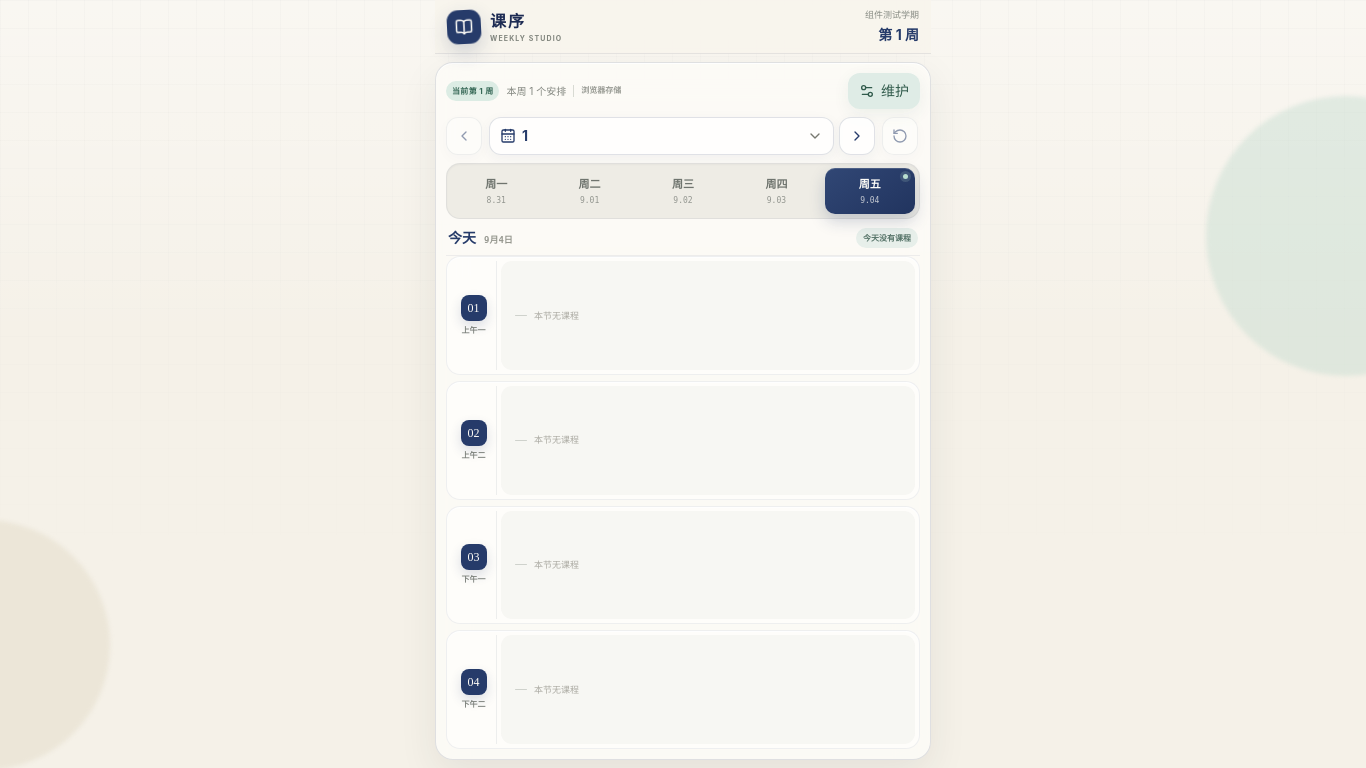
Test: course schedule page › 优先加载版本 1 本地数据，且管理页不提供恢复入口
The width and height of the screenshot is (1366, 768).
Click the button "维护": (884, 91) [848,73,920,109]
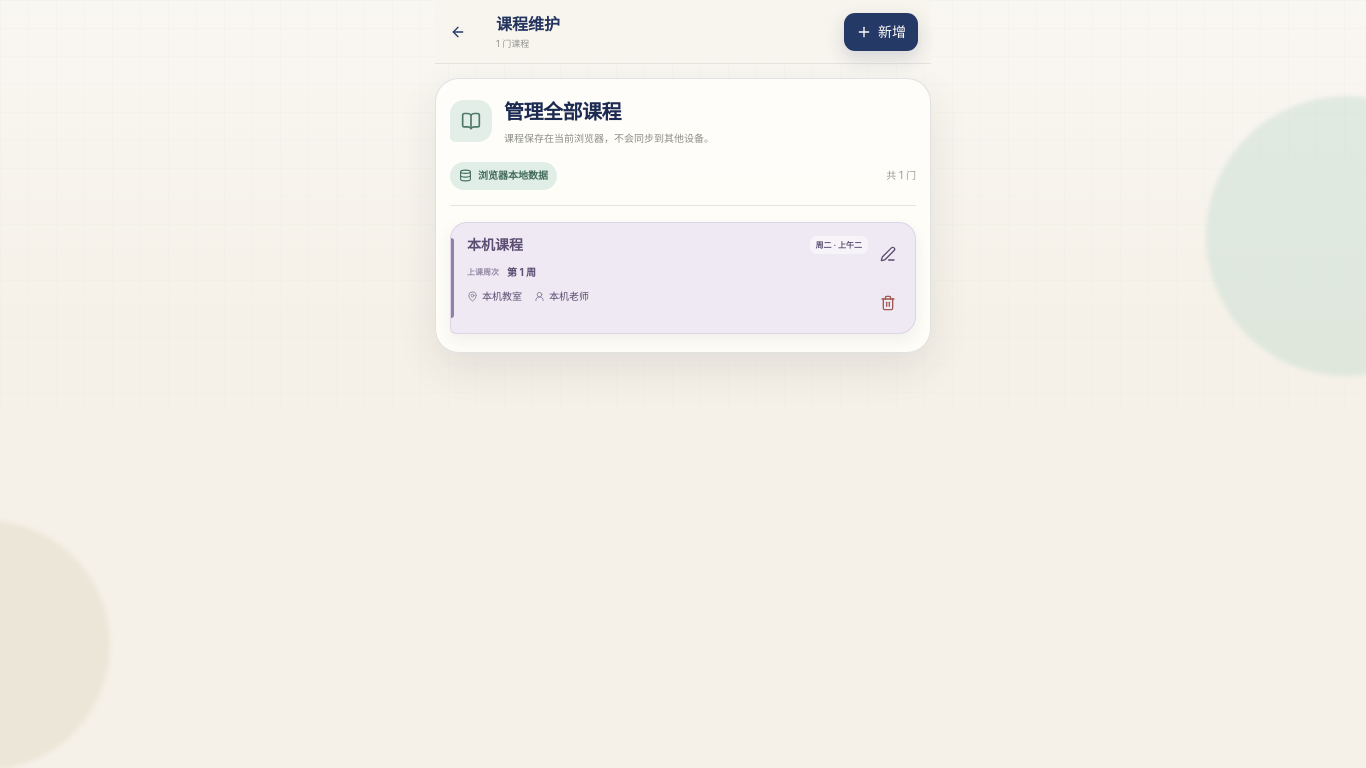
Expected: the heading "本机课程" is shown, [467,236,523,254]
